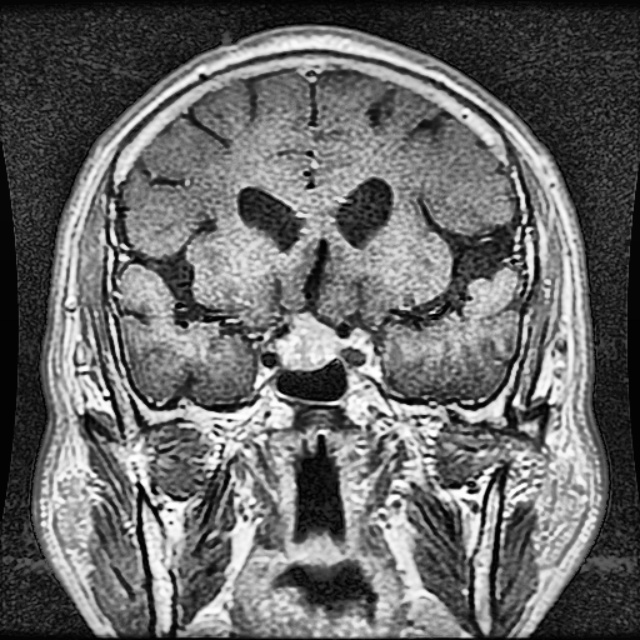Pituitary: (273, 313, 342, 369)
